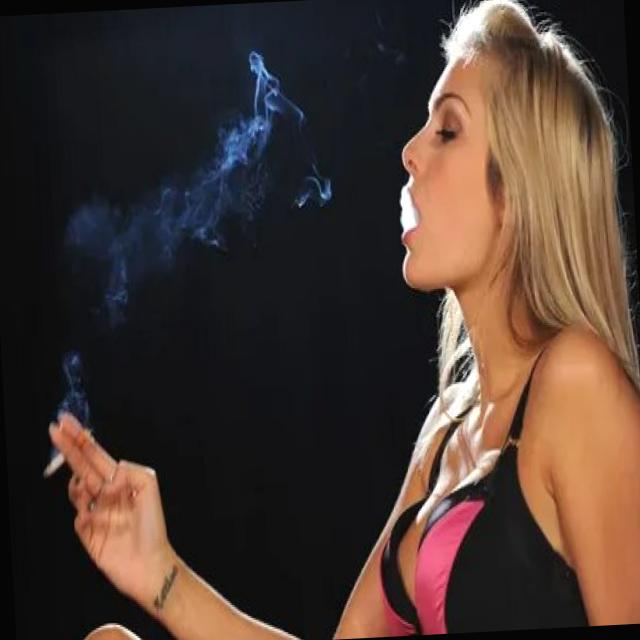cigarette: (38, 421, 103, 484)
